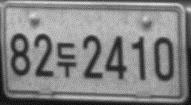0: (153, 36, 174, 82)
1: (130, 36, 147, 82)
2: (82, 34, 103, 80), (34, 33, 55, 78)
4: (104, 34, 128, 80)
8: (9, 32, 31, 76)
두: (56, 42, 77, 78)
